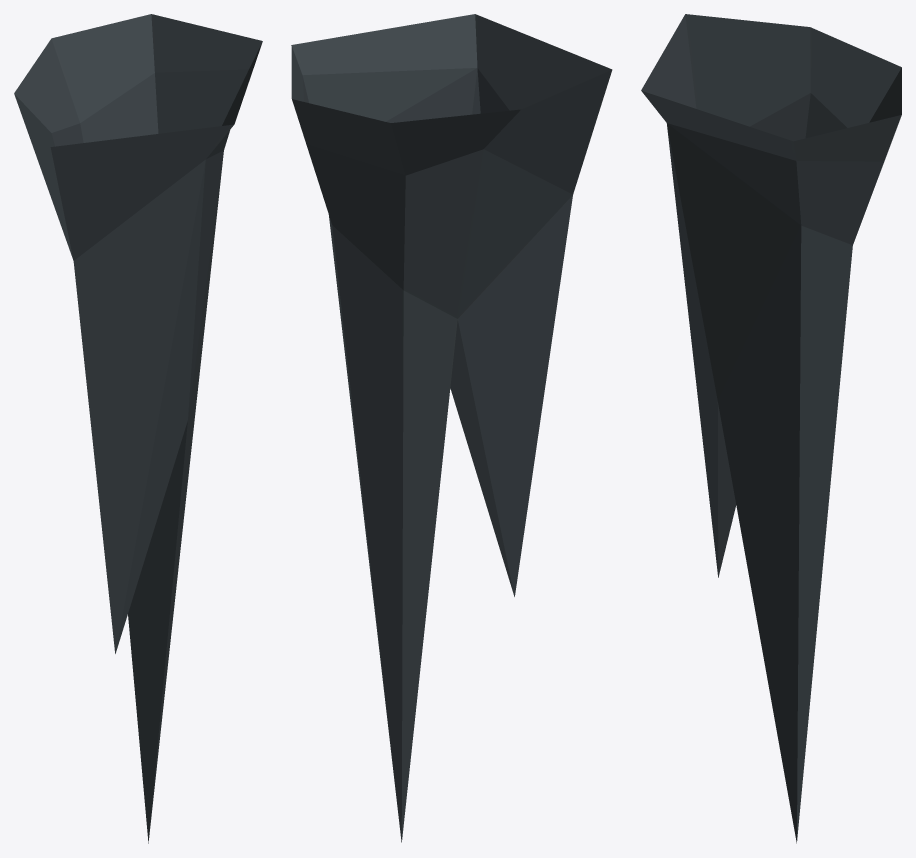
The model's file is Stalacmite-C08.fbx.
3 views of the same model, side by side, from view 1: azimuth 30°, elevation 25°; view 2: azimuth 150°, elevation 25°; view 3: azimuth 270°, elevation 25° (orthographic). The views are drawn at different scales.
Parts seen in each view (by area): view 1: Stalacmite-C08; view 2: Stalacmite-C08; view 3: Stalacmite-C08.
Part boxes in pixels (<box>): Stalacmite-C08: <box>14,14,262,843</box>; Stalacmite-C08: <box>291,14,612,842</box>; Stalacmite-C08: <box>641,14,901,843</box>.
Size of the model in its own units: 99.61 by 276 by 86.27.
